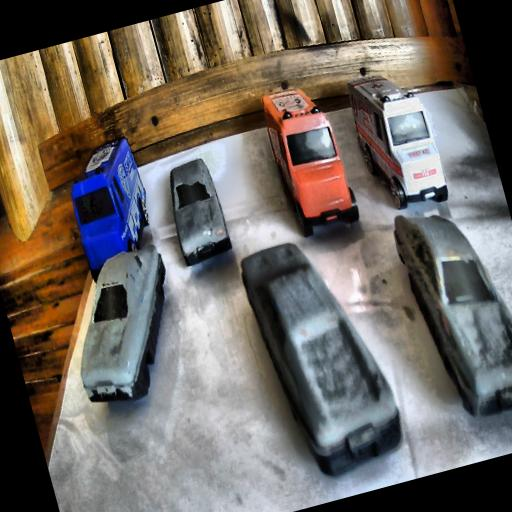ambulance: (341, 61, 450, 218)
fire_truck: (254, 78, 360, 240)
normal_car: (234, 227, 404, 486), (387, 190, 512, 428), (50, 240, 196, 414), (158, 154, 236, 268)
police car: (56, 132, 164, 282)
